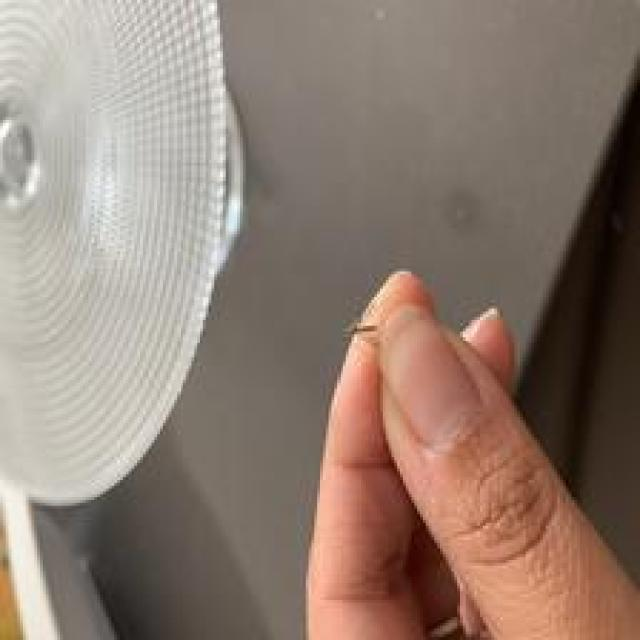Culex: (0, 0, 249, 509)
